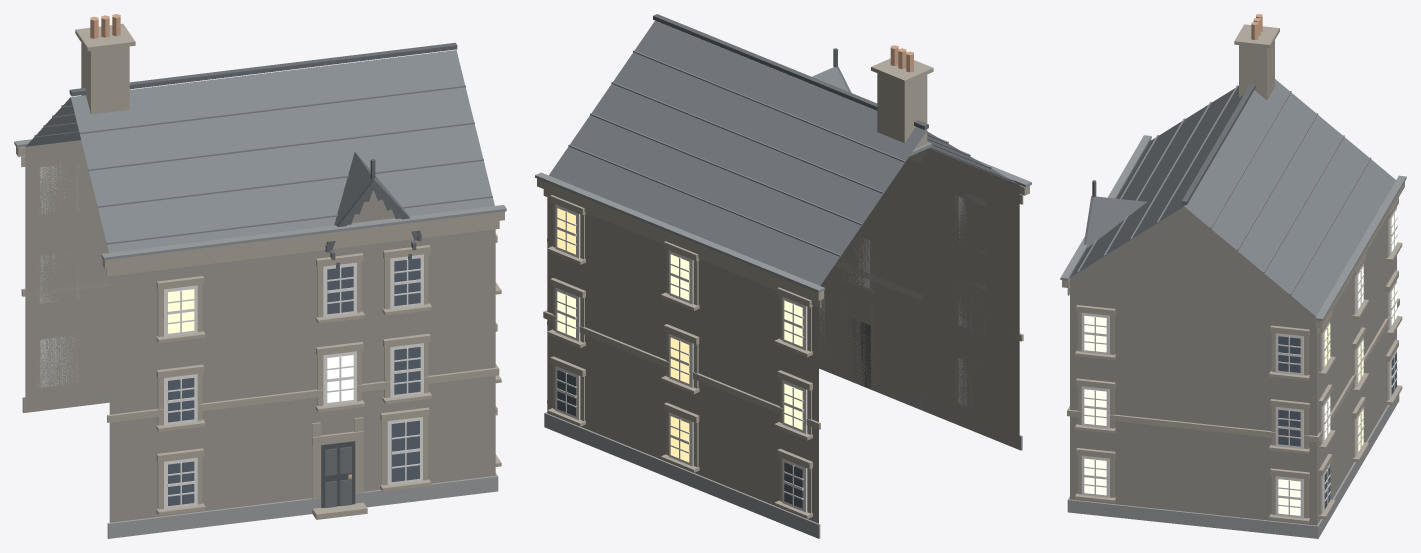
3 views of the same model, side by side, from view 1: azimuth 30°, elevation 25°; view 2: azimuth 150°, elevation 25°; view 3: azimuth 270°, elevation 25° (orthographic). The views are drawn at different scales.
Visible parts, largest first — view 1: rubble, slate, chim_stone, frame, windows, plinth, slate_lt, lead, slate_dk, band_dark, door_dark_p, door_dark (+1 smaller); view 2: rubble, slate, chim_stone, frame, windows, plinth, slate_lt, lead, slate_dk, door_dark; view 3: rubble, slate, chim_stone, frame, windows, plinth, slate_lt, lead, slate_dk.
Boxes of the visible parts, <box> form: rubble: <box>25,140,495,522</box>; slate: <box>25,50,494,252</box>; chim_stone: <box>16,23,504,519</box>; frame: <box>40,164,423,509</box>; windows: <box>168,258,420,505</box>; plinth: <box>22,390,498,538</box>; slate_lt: <box>34,85,492,244</box>; lead: <box>14,139,506,260</box>; slate_dk: <box>69,42,457,96</box>; band_dark: <box>325,159,421,269</box>; door_dark_p: <box>325,446,351,507</box>; door_dark: <box>321,441,355,507</box>; rubble: <box>547,148,1019,523</box>; slate: <box>549,20,1017,285</box>; chim_stone: <box>537,58,1029,518</box>; frame: <box>555,196,978,512</box>; windows: <box>557,208,802,508</box>; plinth: <box>544,358,1022,538</box>; slate_lt: <box>568,50,1013,256</box>; lead: <box>535,141,1031,292</box>; slate_dk: <box>653,14,928,129</box>; door_dark: <box>848,318,870,389</box>; rubble: <box>1070,206,1396,525</box>; slate: <box>1070,79,1395,316</box>; chim_stone: <box>1062,24,1404,523</box>; frame: <box>1081,207,1397,518</box>; windows: <box>1084,209,1396,515</box>; plinth: <box>1067,394,1399,538</box>; slate_lt: <box>1077,85,1371,295</box>; lead: <box>1060,135,1406,321</box>; slate_dk: <box>1181,83,1255,204</box>.
Bounding box in the file's own units: 13.25 × 13.79 × 11.38.
